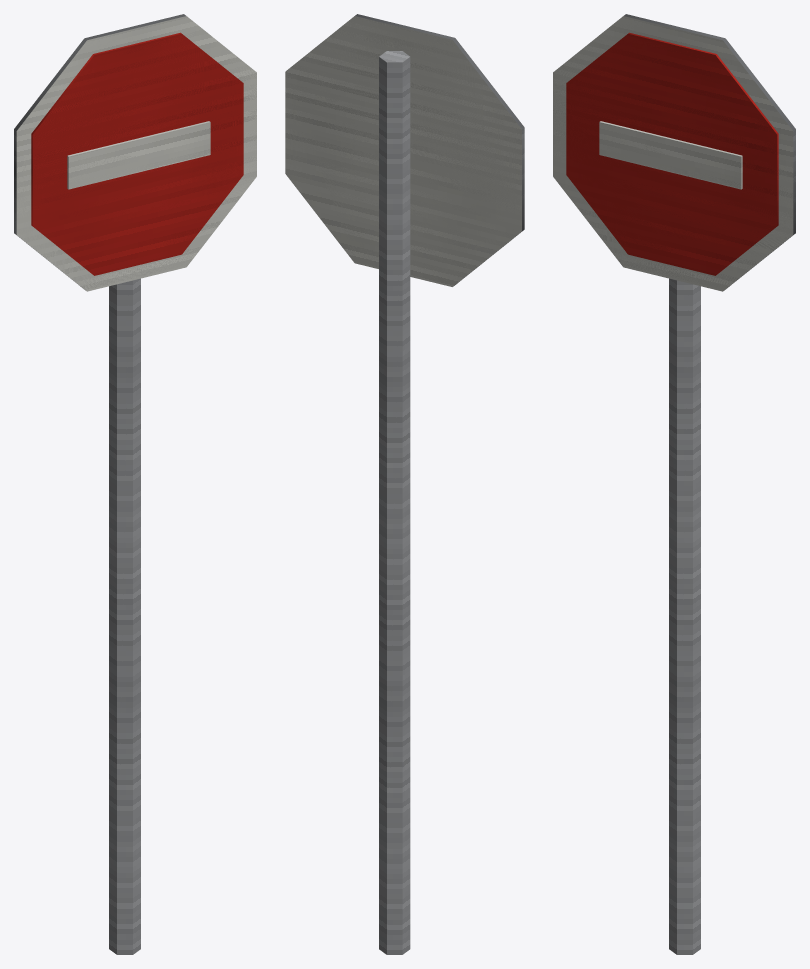
The model's file is placa_pare.glb.
3 renders of one model, left to right at view 1: azimuth 30°, elevation 25°; view 2: azimuth 150°, elevation 25°; view 3: azimuth 330°, elevation 25°, orthographic.
Parts seen in each view (by area): view 1: Inteiro, Peca_01; view 2: Inteiro, Peca_01; view 3: Inteiro, Peca_01.
Part boxes in pixels (x1=…): Inteiro: x1=14, y1=16, x2=256, y2=954; Peca_01: x1=14, y1=14, x2=256, y2=291; Inteiro: x1=285, y1=16, x2=524, y2=954; Peca_01: x1=285, y1=14, x2=524, y2=281; Inteiro: x1=553, y1=16, x2=795, y2=954; Peca_01: x1=553, y1=14, x2=795, y2=291.
Bounding box in the file's own units: 0.6098 × 2.25 × 0.099.
Materials: 1 (1 with a texture image).
